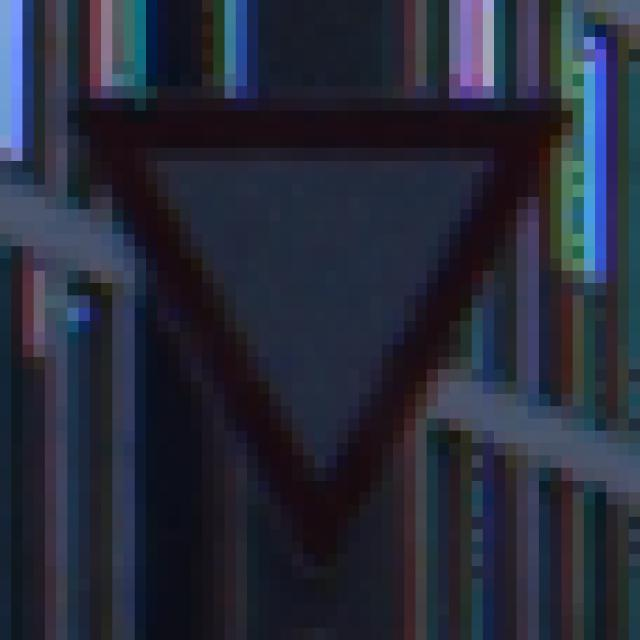Give Way: (57, 63, 585, 580)
